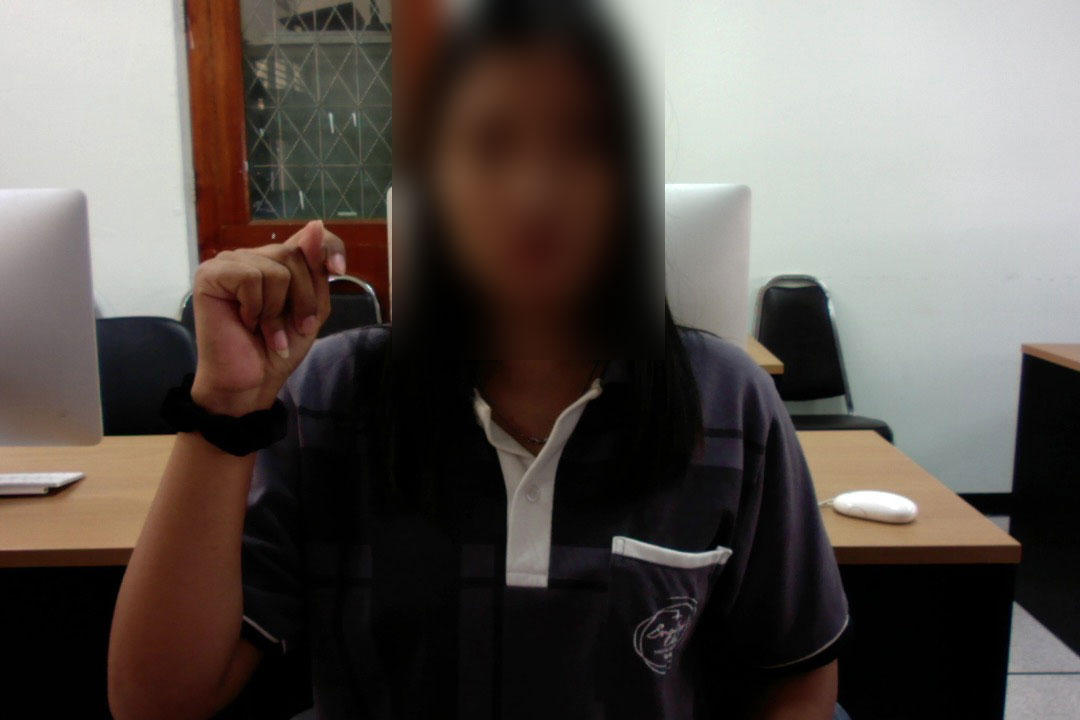tor: (183, 213, 351, 437)
